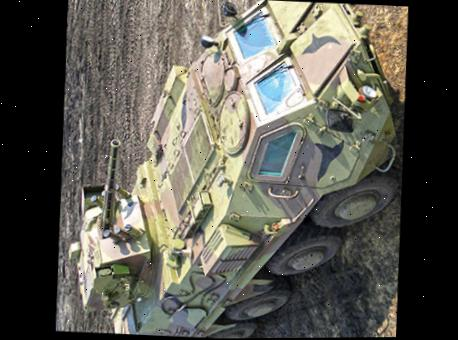armored_car: (56, 0, 412, 340)
